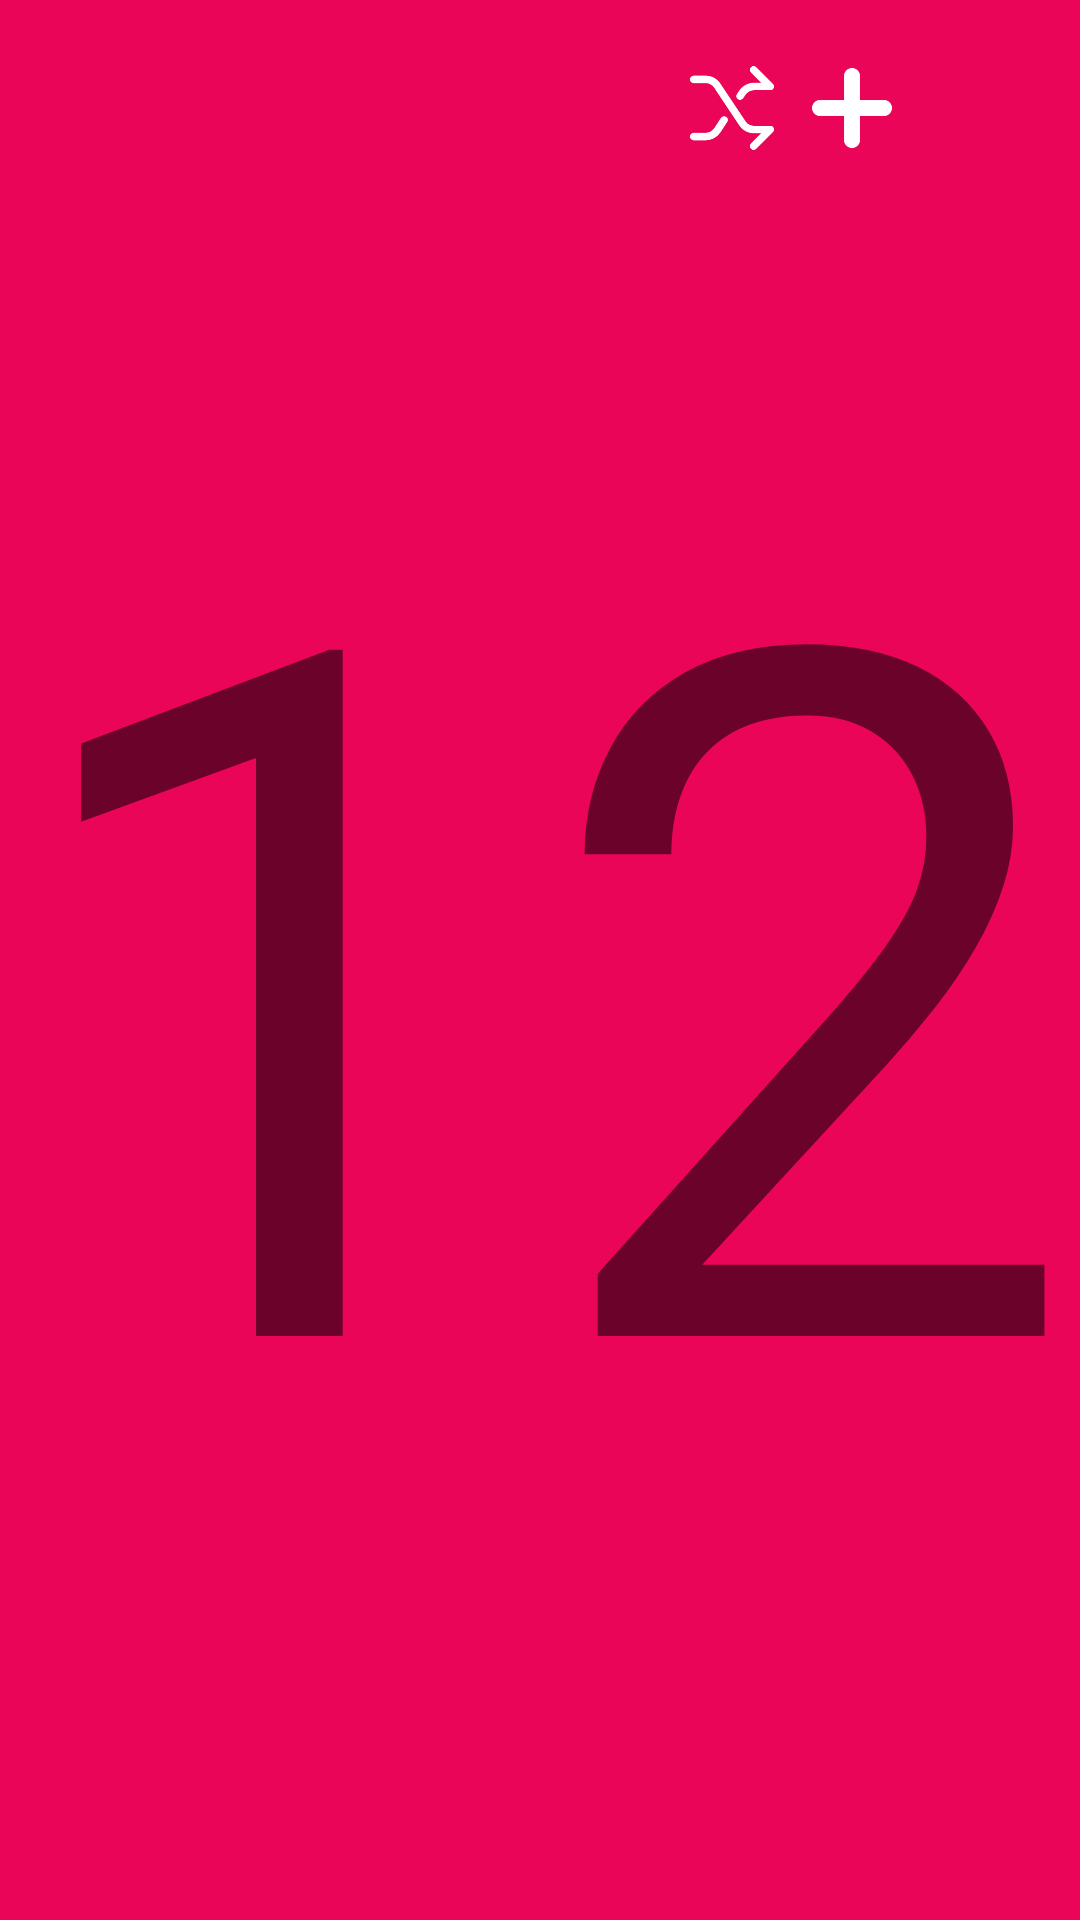

Icons on this 1080×1920 Android screen, each with its box as (x1, y1, x2, y2):
add: (812, 68, 892, 148)
shuffle order play: (690, 66, 774, 150)
